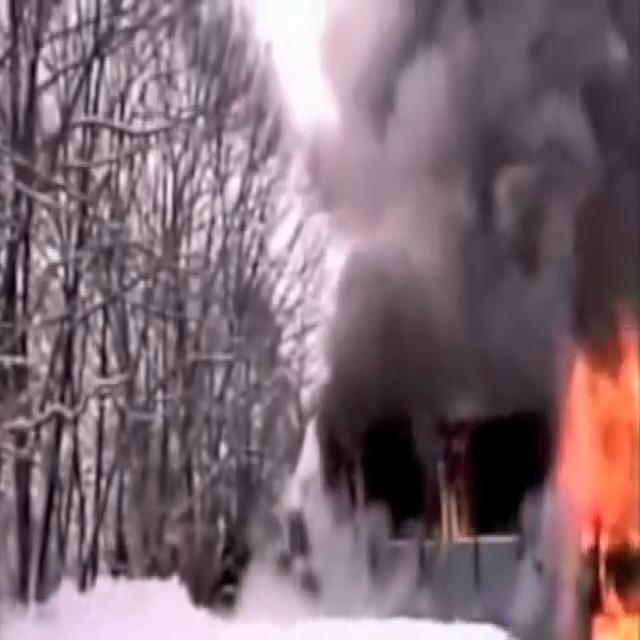Fire: (545, 319, 640, 636)
Smoke: (261, 0, 640, 427)
